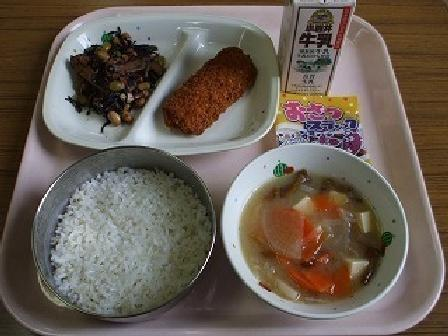Milk: (271, 0, 357, 91)
Rice: (34, 147, 214, 312)
Soups: (217, 146, 402, 311)
cutlet: (166, 39, 263, 139)
salad with sauce: (67, 17, 159, 117)
